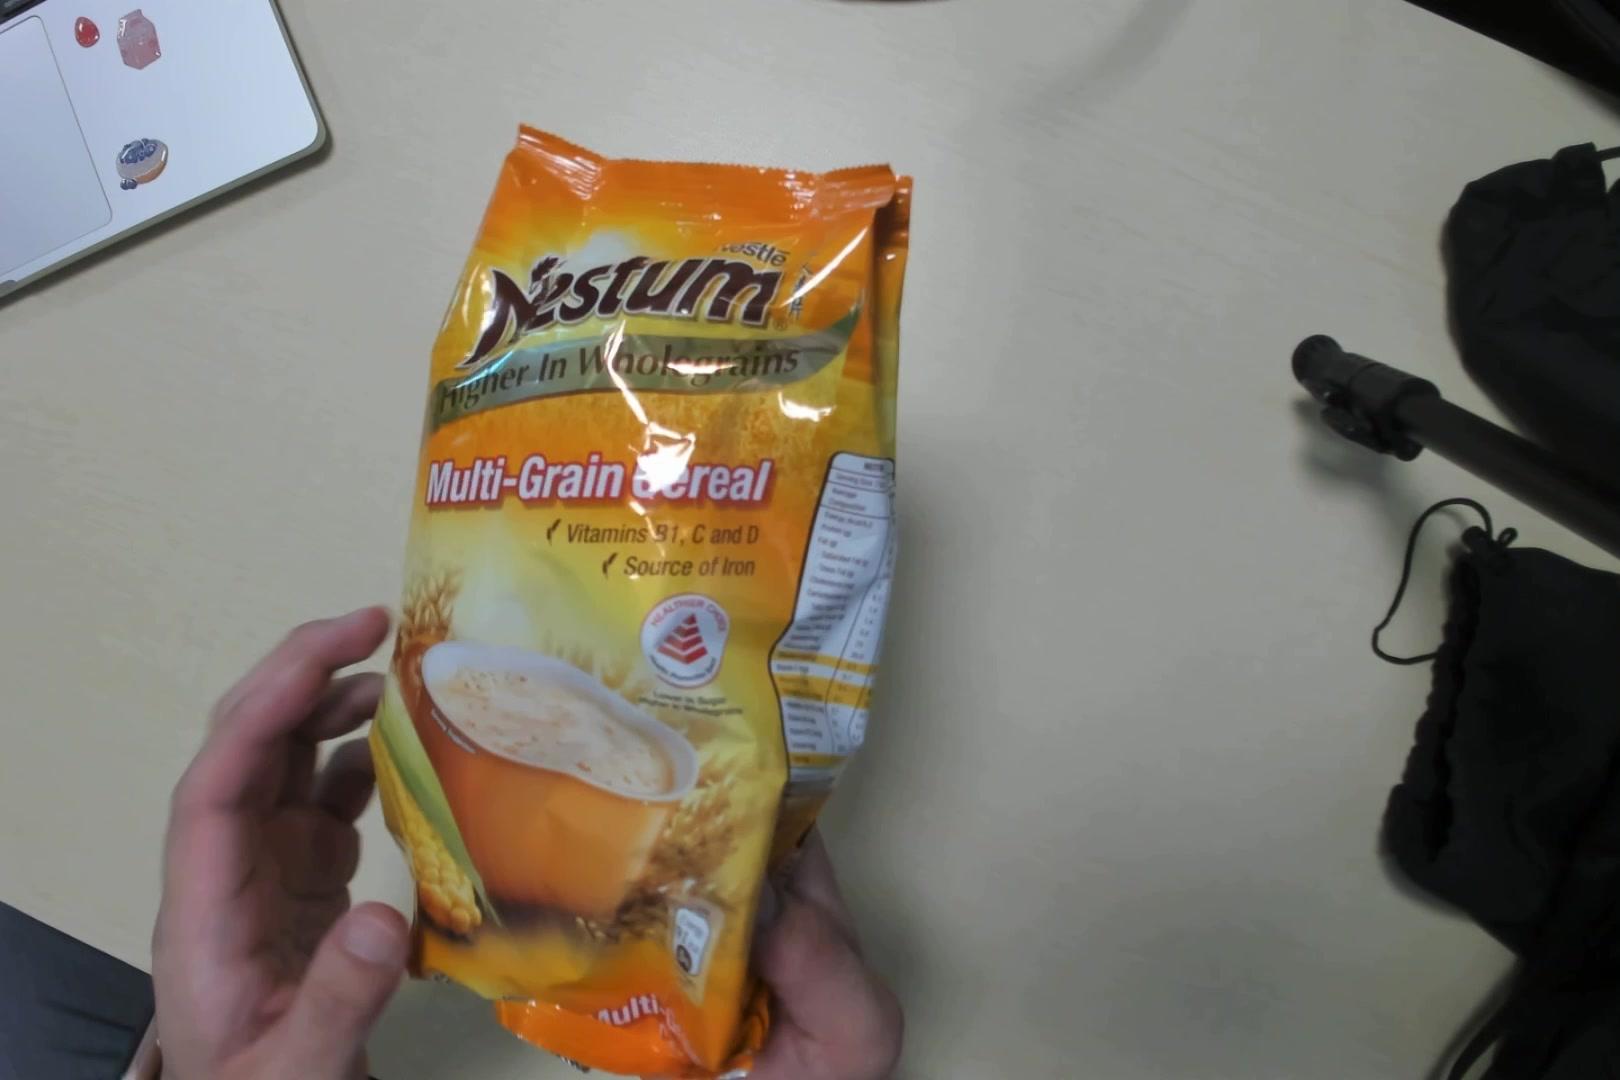RolledOatsInstantOatmeal_200-299g_NonHalal_Healthy: (372, 137, 894, 1080)
